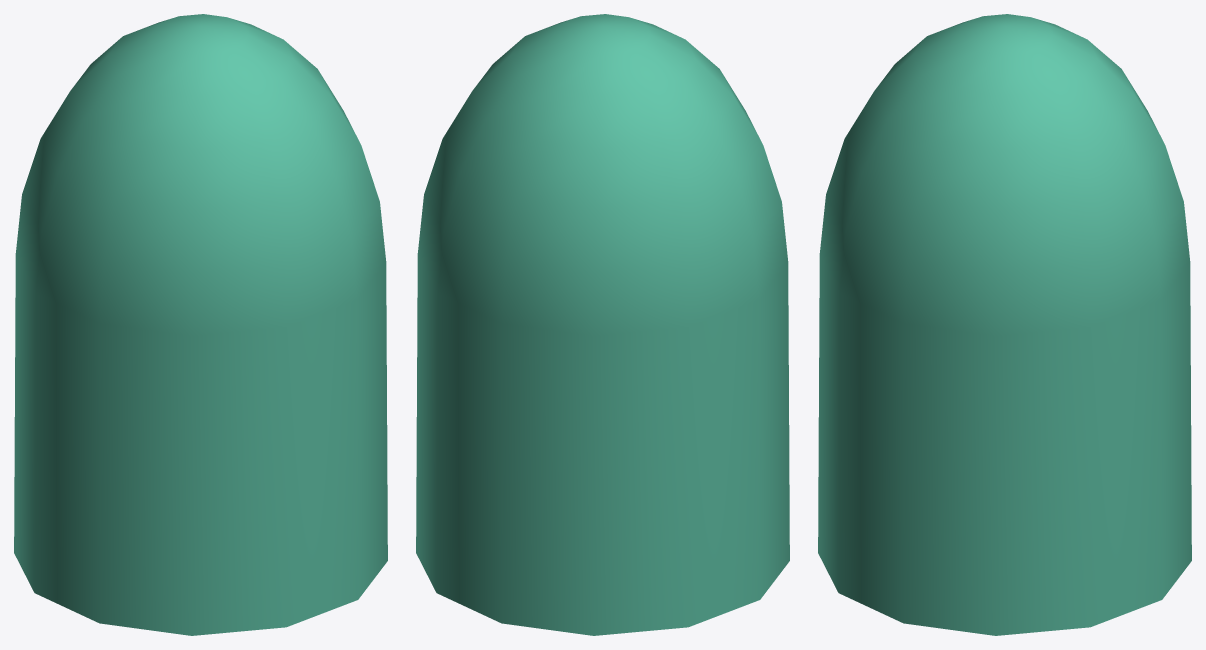
File: Cage_Small_01B_Lod0.fbx
3 renders of one model, left to right at view 1: azimuth 30°, elevation 25°; view 2: azimuth 150°, elevation 25°; view 3: azimuth 270°, elevation 25°, orthographic.
Visible parts, largest first — view 1: Cage_Small_01B_Lod0; view 2: Cage_Small_01B_Lod0; view 3: Cage_Small_01B_Lod0.
Part boxes in pixels (x1,y1,x2,y2): Cage_Small_01B_Lod0: (14, 14, 387, 635); Cage_Small_01B_Lod0: (416, 14, 789, 635); Cage_Small_01B_Lod0: (818, 14, 1191, 635).
Size of the model in its own units: 43.93 by 68.81 by 43.93.
